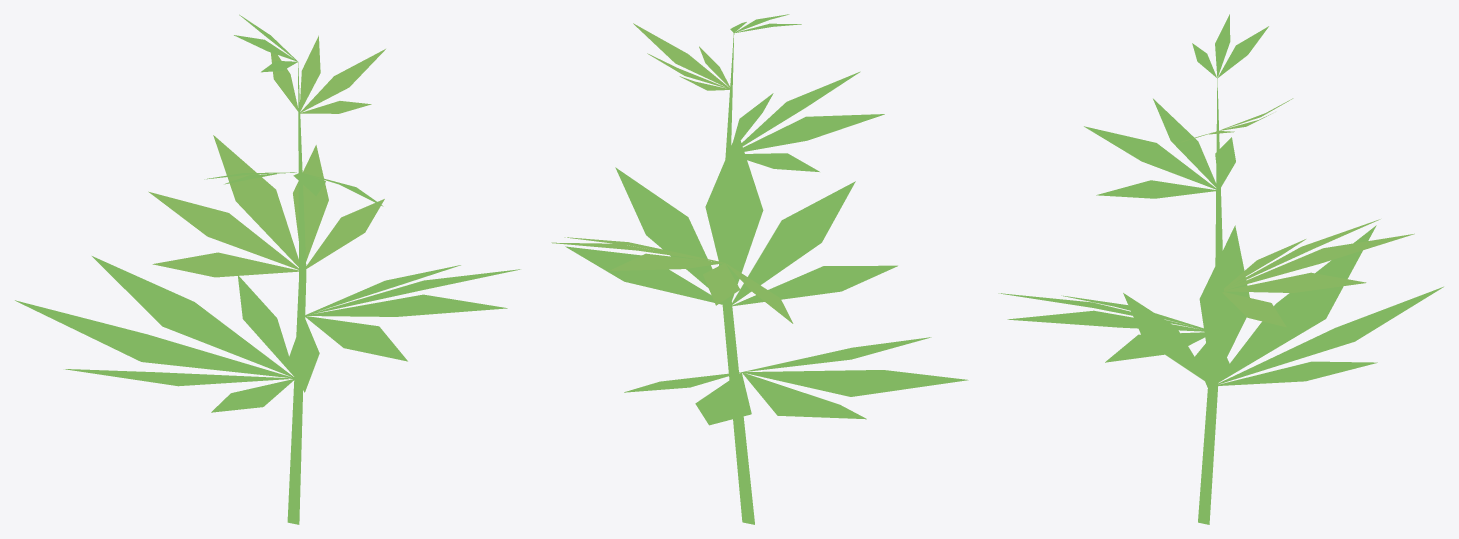
The model's file is Plant_i_TwoS_04.fbx.
The picture shows the model from 3 angles, left to right: view 1: azimuth 30°, elevation 25°; view 2: azimuth 150°, elevation 25°; view 3: azimuth 270°, elevation 25°; orthographic projection. The views are drawn at different scales.
Visible parts, largest first — view 1: Plant_i_TwoS_04; view 2: Plant_i_TwoS_04; view 3: Plant_i_TwoS_04.
Part boxes in pixels (x1,y1,x2,y2): Plant_i_TwoS_04: (15, 14, 520, 524); Plant_i_TwoS_04: (551, 14, 968, 524); Plant_i_TwoS_04: (998, 14, 1443, 524).
Size of the model in its own units: 0.5517 by 0.6588 by 0.551.
